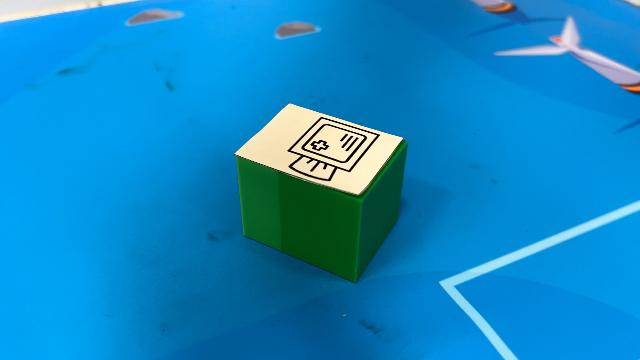napkin: (232, 100, 410, 284)
